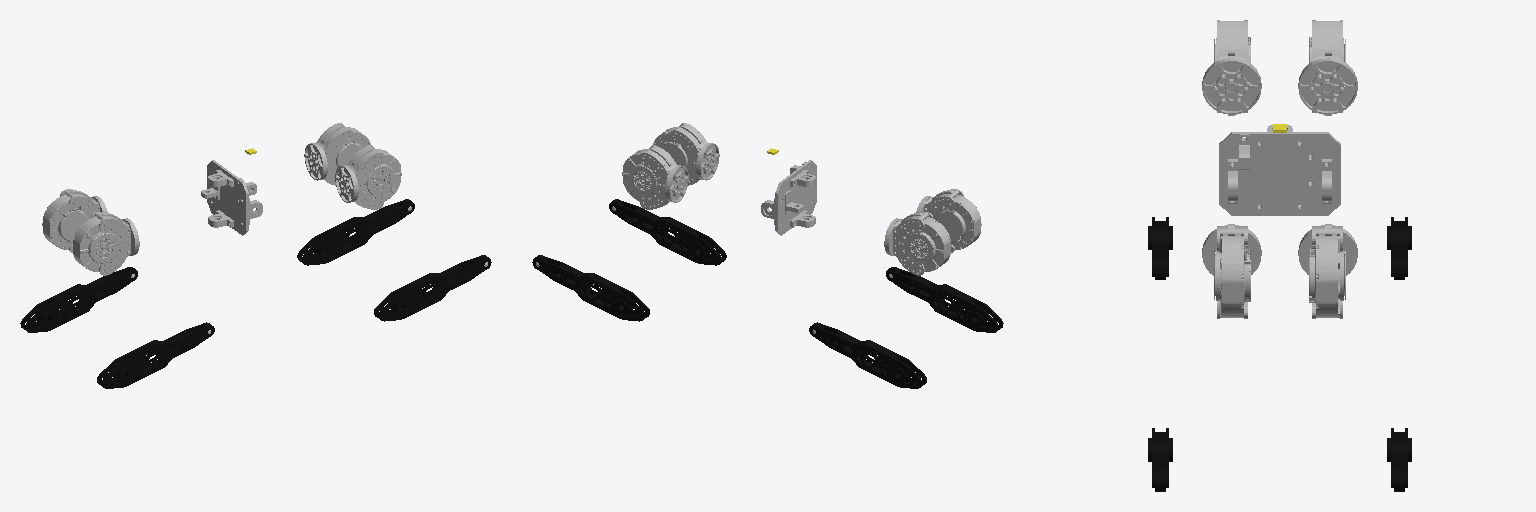
robot.urdf — CatModel2_v2:
<?xml version="1.0" ?>
<!-- =================================================================================== -->
<!-- |    This document was autogenerated by xacro from CatModel2_v2.xacro             | -->
<!-- |    EDITING THIS FILE BY HAND IS NOT RECOMMENDED                                 | -->
<!-- =================================================================================== -->
<robot name="CatModel2_v2">
  <link name="base_link">
    <inertial>
      <origin rpy="0 0 0" xyz="0.0027732 -0.00068363 0.00099437"/>
      <mass value="0.29241"/>
      <inertia ixx="0.00035365" ixy="-9.4553E-08" ixz="3.37E-07" iyy="0.00014633" iyz="4.7012E-07" izz="0.00023997"/>
    </inertial>
    <visual>
      <origin rpy="0 0 0" xyz="0 0 0"/>
      <geometry>
        <mesh filename="package://CatModel2_v2_description/meshes/base_link.STL"/>
      </geometry>
      <material name="">
        <color rgba="0.752941176470588 0.752941176470588 0.752941176470588 1"/>
      </material>
    </visual>
  </link>
  <link name="BF_Link">
    <inertial>
      <origin rpy="0 0 0" xyz="0.12955 -8.3804E-05 -0.0013141"/>
      <mass value="3.1773"/>
      <inertia ixx="0.0048776" ixy="-5.0175E-06" ixz="-2.0519E-06" iyy="0.0043656" iyz="2.0409E-06" izz="0.0063374"/>
    </inertial>
    <visual>
      <origin rpy="0 0 0" xyz="0 0 0"/>
      <geometry>
        <mesh filename="package://CatModel2_v2_description/meshes/BF_Link.STL"/>
      </geometry>
      <material name="">
        <color rgba="0.752941176470588 0.752941176470588 0.752941176470588 1"/>
      </material>
    </visual>
    <collision>
      <origin rpy="0 0 0" xyz="0.13 0 0"/>
      <geometry>
        <box size="0.16 0.2 0.12"/>
      </geometry>
    </collision>
  </link>
  <joint name="bodyf_pitch_joint" type="revolute">
    <origin rpy="0 0 0" xyz="0 0 0"/>
    <parent link="base_link"/>
    <child link="BF_Link"/>
    <axis xyz="0 -1 0"/>
    <limit effort="23.7" lower="-0.75" upper="0.75" velocity="18"/>
  </joint>
  <link name="BB_Link">
    <inertial>
      <origin rpy="0 0 0" xyz="-0.155121047880281 -0.00203708989369605 -0.00355151701603064"/>
      <mass value="3.23275137200683"/>
      <inertia ixx="0.00514719625702028" ixy="1.12565222116179E-06" ixz="-1.95082644973759E-08" iyy="0.00417841726459602" iyz="-4.35796353082797E-06" izz="0.0068065106450055"/>
    </inertial>
    <visual>
      <origin rpy="0 0 0" xyz="0 0 0"/>
      <geometry>
        <mesh filename="package://CatModel2_v2_description/meshes/BB_Link.STL"/>
      </geometry>
      <material name="">
        <color rgba="0.752941176470588 0.752941176470588 0.752941176470588 1"/>
      </material>
    </visual>
    <collision>
      <origin rpy="0 0 0" xyz="-0.13 0 0"/>
      <geometry>
        <box size="0.18 0.2 0.12"/>
      </geometry>
    </collision>
  </link>
  <joint name="bodyb_yaw_joint" type="revolute">
    <origin rpy="0 0 0" xyz="0 0 0"/>
    <parent link="base_link"/>
    <child link="BB_Link"/>
    <axis xyz="0 0 1"/>
    <limit effort="23.7" lower="-0.75" upper="0.75" velocity="18"/>
  </joint>
  <link name="LF_hip">
    <inertial>
      <origin rpy="0 0 0" xyz="0.059149 0.00048753 5.429E-05"/>
      <mass value="0.64023"/>
      <inertia ixx="0.00043421" ixy="-7.3517E-08" ixz="-9.9092E-07" iyy="0.00072036" iyz="6.9084E-08" izz="0.00034295"/>
    </inertial>
    <visual>
      <origin rpy="0 0 0" xyz="0 0 0"/>
      <geometry>
        <mesh filename="package://CatModel2_v2_description/meshes/LF_hip.STL"/>
      </geometry>
      <material name="">
        <color rgba="0.752941176470588 0.752941176470588 0.752941176470588 1"/>
      </material>
    </visual>
  </link>
  <joint name="LF_HAA" type="revolute">
    <origin rpy="0 0 0" xyz="0.2106 0.05498 -0.00027501"/>
    <parent link="BF_Link"/>
    <child link="LF_hip"/>
    <axis xyz="1 0 0"/>
    <limit effort="23.7" lower="-0.785" upper="0.785" velocity="18"/>
  </joint>
  <link name="LF_thigh">
    <inertial>
      <origin rpy="0 0 0" xyz="-0.0032907 0.041874 -0.028566"/>
      <mass value="0.90246"/>
      <inertia ixx="0.0018817" ixy="-1.6738E-07" ixz="8.646E-05" iyy="0.0023903" iyz="-3.6595E-07" izz="0.00056291"/>
    </inertial>
    <visual>
      <origin rpy="0 0 0" xyz="0 0 0"/>
      <geometry>
        <mesh filename="package://CatModel2_v2_description/meshes/LF_thigh.STL"/>
      </geometry>
      <material name="">
        <color rgba="0.752941176470588 0.752941176470588 0.752941176470588 1"/>
      </material>
    </visual>
  </link>
  <joint name="LF_HFE" type="revolute">
    <origin rpy="0 0 0" xyz="0.065399 0.02005 0"/>
    <parent link="LF_hip"/>
    <child link="LF_thigh"/>
    <axis xyz="0 1 0"/>
    <limit effort="23.7" lower="-1.05" upper="3.14" velocity="18"/>
  </joint>
  <link name="LF_calf">
    <inertial>
      <origin rpy="0 0 0" xyz="0 -3.1641E-15 -0.052658"/>
      <mass value="0.14476"/>
      <inertia ixx="0.00035039" ixy="1.2339E-20" ixz="3.6484E-19" iyy="0.00037167" iyz="2.4131E-18" izz="2.3499E-05"/>
    </inertial>
    <visual>
      <origin rpy="0 0 0" xyz="0 0 0"/>
      <geometry>
        <mesh filename="package://CatModel2_v2_description/meshes/LF_calf.STL"/>
      </geometry>
      <material name="">
        <color rgba="0.101960784313725 0.101960784313725 0.101960784313725 1"/>
      </material>
    </visual>
    <collision>
      <origin rpy="0 1.5707963267948966 0" xyz="0.0 0 -0.068"/>
      <geometry>
        <box size="0.18 0.02 0.03"/>
      </geometry>
    </collision>
  </link>
  <joint name="LF_KFE" type="revolute">
    <origin rpy="0 0 0" xyz="0 0.0617 -0.22"/>
    <parent link="LF_thigh"/>
    <child link="LF_calf"/>
    <axis xyz="0 1 0"/>
    <limit effort="23.7" lower="-2.70" upper="-0.92" velocity="18"/>
  </joint>
  <link name="LF_FOOT">
    <visual>
      <origin rpy="0 0 0" xyz="0 0 0"/>
      <geometry>
        <sphere radius="0.01"/>
      </geometry>
      <material name="">
        <color rgba="0.752941176470588 0.752941176470588 0.752941176470588 1"/>
      </material>
    </visual>
    <collision>
      <origin rpy="0 0 0" xyz="0 0 0"/>
      <geometry>
        <sphere radius="0.02"/>
      </geometry>
    </collision>
    <inertial>
      <mass value="0.06"/>
      <inertia ixx="9.600000000000001e-06" ixy="0.0" ixz="0.0" iyy="9.600000000000001e-06" iyz="0.0" izz="9.600000000000001e-06"/>
    </inertial>
  </link>
  <joint name="LF_foot_fixed" type="fixed">
    <origin rpy="0 0 0" xyz="-0.001 0 -0.18"/>
    <parent link="LF_calf"/>
    <child link="LF_FOOT"/>
  </joint>
  <link name="RF_hip">
    <inertial>
      <origin rpy="0 0 0" xyz="0.0591490581019896 -0.000487525970476965 -5.42903367248861E-05"/>
      <mass value="0.640225051482545"/>
      <inertia ixx="0.000434212543234904" ixy="7.35174336445234E-08" ixz="9.90921151292404E-07" iyy="0.000720360810738487" iyz="6.90839528752722E-08" izz="0.000342952443359203"/>
    </inertial>
    <visual>
      <origin rpy="0 0 0" xyz="0 0 0"/>
      <geometry>
        <mesh filename="package://CatModel2_v2_description/meshes/RF_hip.STL"/>
      </geometry>
      <material name="">
        <color rgba="0.752941176470588 0.752941176470588 0.752941176470588 1"/>
      </material>
    </visual>
  </link>
  <joint name="RF_HAA" type="revolute">
    <origin rpy="0 0 0" xyz="0.2106 -0.05502 -0.00027501"/>
    <parent link="BF_Link"/>
    <child link="RF_hip"/>
    <axis xyz="1 0 0"/>
    <limit effort="23.7" lower="-0.785" upper="0.785" velocity="18"/>
  </joint>
  <link name="RF_thigh">
    <inertial>
      <origin rpy="0 0 0" xyz="-0.00317848322957781 -0.0418855537001225 -0.0284736552743077"/>
      <mass value="0.902455135679806"/>
      <inertia ixx="0.0018815550203863" ixy="-1.67383947337767E-07" ixz="8.24129006656969E-05" iyy="0.00239029186292115" iyz="-5.15964742906776E-07" izz="0.000563095477798709"/>
    </inertial>
    <visual>
      <origin rpy="0 0 0" xyz="0 0 0"/>
      <geometry>
        <mesh filename="package://CatModel2_v2_description/meshes/RF_thigh.STL"/>
      </geometry>
      <material name="">
        <color rgba="0.752941176470588 0.752941176470588 0.752941176470588 1"/>
      </material>
    </visual>
  </link>
  <joint name="RF_HFE" type="revolute">
    <origin rpy="0 0 0" xyz="0.065399 -0.02005 0"/>
    <parent link="RF_hip"/>
    <child link="RF_thigh"/>
    <axis xyz="0 1 0"/>
    <limit effort="23.7" lower="-1.05" upper="3.14" velocity="18"/>
  </joint>
  <link name="RF_calf">
    <inertial>
      <origin rpy="0 0 0" xyz="6.66133814775094E-16 -6.22765727875674E-15 -0.0526579498337946"/>
      <mass value="0.144759009545624"/>
      <inertia ixx="0.000350393411843135" ixy="2.0050448906824E-20" ixz="4.21763248200571E-19" iyy="0.000371665464074352" iyz="2.01157508959523E-18" izz="2.34988672673909E-05"/>
    </inertial>
    <visual>
      <origin rpy="0 0 0" xyz="0 0 0"/>
      <geometry>
        <mesh filename="package://CatModel2_v2_description/meshes/RF_calf.STL"/>
      </geometry>
      <material name="">
        <color rgba="0.101960784313725 0.101960784313725 0.101960784313725 1"/>
      </material>
    </visual>
    <collision>
      <origin rpy="0 1.5707963267948966 0" xyz="0.0 0 -0.068"/>
      <geometry>
        <box size="0.18 0.02 0.03"/>
      </geometry>
    </collision>
  </link>
  <joint name="RF_KFE" type="revolute">
    <origin rpy="0 0 0" xyz="0 -0.0617 -0.22"/>
    <parent link="RF_thigh"/>
    <child link="RF_calf"/>
    <axis xyz="0 1 0"/>
    <limit effort="23.7" lower="-2.70" upper="-0.92" velocity="18"/>
  </joint>
  <link name="RF_FOOT">
    <visual>
      <origin rpy="0 0 0" xyz="0 0 0"/>
      <geometry>
        <sphere radius="0.01"/>
      </geometry>
      <material name="">
        <color rgba="0.752941176470588 0.752941176470588 0.752941176470588 1"/>
      </material>
    </visual>
    <collision>
      <origin rpy="0 0 0" xyz="0 0 0"/>
      <geometry>
        <sphere radius="0.02"/>
      </geometry>
    </collision>
    <inertial>
      <mass value="0.06"/>
      <inertia ixx="9.600000000000001e-06" ixy="0.0" ixz="0.0" iyy="9.600000000000001e-06" iyz="0.0" izz="9.600000000000001e-06"/>
    </inertial>
  </link>
  <joint name="RF_foot_fixed" type="fixed">
    <origin rpy="0 0 0" xyz="-0.001 0 -0.18"/>
    <parent link="RF_calf"/>
    <child link="RF_FOOT"/>
  </joint>
  <link name="LH_hip">
    <inertial>
      <origin rpy="0 0 0" xyz="-0.0591490581019898 0.000487525970477076 -5.42903367247473E-05"/>
      <mass value="0.64022505148254"/>
      <inertia ixx="0.0004342125432349" ixy="7.35174336447589E-08" ixz="-9.90921151293637E-07" iyy="0.000720360810738482" iyz="-6.90839528781593E-08" izz="0.000342952443359201"/>
    </inertial>
    <visual>
      <origin rpy="0 0 0" xyz="0 0 0"/>
      <geometry>
        <mesh filename="package://CatModel2_v2_description/meshes/LH_hip.STL"/>
      </geometry>
      <material name="">
        <color rgba="0.752941176470588 0.752941176470588 0.752941176470588 1"/>
      </material>
    </visual>
  </link>
  <joint name="LH_HAA" type="revolute">
    <origin rpy="0 0 0" xyz="-0.2306 0.05498 -0.00027501"/>
    <parent link="BB_Link"/>
    <child link="LH_hip"/>
    <axis xyz="1 0 0"/>
    <limit effort="23.7" lower="-0.785" upper="0.785" velocity="18"/>
  </joint>
  <link name="LH_thigh">
    <inertial>
      <origin rpy="0 0 0" xyz="-0.00326537744186078 0.0418738032783046 -0.0284484128464969"/>
      <mass value="0.90245513578387"/>
      <inertia ixx="0.00188150914405838" ixy="-1.67383947515894E-07" ixz="8.60940761571269E-05" iyy="0.0023902918629742" iyz="-3.65953825948848E-07" izz="0.000563141354181181"/>
    </inertial>
    <visual>
      <origin rpy="0 0 0" xyz="0 0 0"/>
      <geometry>
        <mesh filename="package://CatModel2_v2_description/meshes/LH_thigh.STL"/>
      </geometry>
      <material name="">
        <color rgba="0.752941176470588 0.752941176470588 0.752941176470588 1"/>
      </material>
    </visual>
  </link>
  <joint name="LH_HFE" type="revolute">
    <origin rpy="0 0 0" xyz="-0.065399 0.02005 0"/>
    <parent link="LH_hip"/>
    <child link="LH_thigh"/>
    <axis xyz="0 1 0"/>
    <limit effort="23.7" lower="-1.05" upper="3.14" velocity="18"/>
  </joint>
  <link name="LH_calf">
    <inertial>
      <origin rpy="0 0 0" xyz="1.11022302462516E-16 8.88178419700125E-16 -0.0526579498337902"/>
      <mass value="0.144759009545624"/>
      <inertia ixx="0.000350393411843134" ixy="2.56586676497705E-20" ixz="6.47243391334494E-21" iyy="0.000371665464074352" iyz="-2.65071817579223E-18" izz="2.34988672673909E-05"/>
    </inertial>
    <visual>
      <origin rpy="0 0 0" xyz="0 0 0"/>
      <geometry>
        <mesh filename="package://CatModel2_v2_description/meshes/LH_calf.STL"/>
      </geometry>
      <material name="">
        <color rgba="0.101960784313725 0.101960784313725 0.101960784313725 1"/>
      </material>
    </visual>
    <collision>
      <origin rpy="0 1.5707963267948966 0" xyz="0.0 0 -0.068"/>
      <geometry>
        <box size="0.18 0.02 0.03"/>
      </geometry>
    </collision>
  </link>
  <joint name="LH_KFE" type="revolute">
    <origin rpy="0 0 0" xyz="0 0.0617 -0.22"/>
    <parent link="LH_thigh"/>
    <child link="LH_calf"/>
    <axis xyz="0 1 0"/>
    <limit effort="23.7" lower="-2.70" upper="-0.92" velocity="18"/>
  </joint>
  <link name="LH_FOOT">
    <visual>
      <origin rpy="0 0 0" xyz="0 0 0"/>
      <geometry>
        <sphere radius="0.01"/>
      </geometry>
      <material name="">
        <color rgba="0.752941176470588 0.752941176470588 0.752941176470588 1"/>
      </material>
    </visual>
    <collision>
      <origin rpy="0 0 0" xyz="0 0 0"/>
      <geometry>
        <sphere radius="0.02"/>
      </geometry>
    </collision>
    <inertial>
      <mass value="0.06"/>
      <inertia ixx="9.600000000000001e-06" ixy="0.0" ixz="0.0" iyy="9.600000000000001e-06" iyz="0.0" izz="9.600000000000001e-06"/>
    </inertial>
  </link>
  <joint name="LH_foot_fixed" type="fixed">
    <origin rpy="0 0 0" xyz="-0.001 0 -0.18"/>
    <parent link="LH_calf"/>
    <child link="LH_FOOT"/>
  </joint>
  <link name="RH_hip">
    <inertial>
      <origin rpy="0 0 0" xyz="-0.0589998656454742 -0.000506527943530136 -1.58979394321024E-05"/>
      <mass value="0.642366646261419"/>
      <inertia ixx="0.000434440011866329" ixy="-7.3517433644117E-08" ixz="9.90921151292079E-07" iyy="0.000720364692882" iyz="-6.90839528753E-08" izz="0.000343179911990631"/>
    </inertial>
    <visual>
      <origin rpy="0 0 0" xyz="0 0 0"/>
      <geometry>
        <mesh filename="package://CatModel2_v2_description/meshes/RH_hip.STL"/>
      </geometry>
      <material name="">
        <color rgba="0.752941176470588 0.752941176470588 0.752941176470588 1"/>
      </material>
    </visual>
  </link>
  <joint name="RH_HAA" type="revolute">
    <origin rpy="0 0 0" xyz="-0.2306 -0.05502 -0.00027501"/>
    <parent link="BB_Link"/>
    <child link="RH_hip"/>
    <axis xyz="1 0 0"/>
    <limit effort="23.7" lower="-0.785" upper="0.785" velocity="18"/>
  </joint>
  <link name="RH_thigh">
    <inertial>
      <origin rpy="0 0 0" xyz="-0.00317232321632233 -0.0418855537024003 -0.028448412846502"/>
      <mass value="0.902455135783871"/>
      <inertia ixx="0.00188150914405838" ixy="-1.67383947516652E-07" ixz="8.23311898038298E-05" iyy="0.0023902918629742" iyz="-5.15964720207777E-07" izz="0.000563141354181178"/>
    </inertial>
    <visual>
      <origin rpy="0 0 0" xyz="0 0 0"/>
      <geometry>
        <mesh filename="package://CatModel2_v2_description/meshes/RH_thigh.STL"/>
      </geometry>
      <material name="">
        <color rgba="0.752941176470588 0.752941176470588 0.752941176470588 1"/>
      </material>
    </visual>
  </link>
  <joint name="RH_HFE" type="revolute">
    <origin rpy="0 0 0" xyz="-0.065399 -0.02005 0"/>
    <parent link="RH_hip"/>
    <child link="RH_thigh"/>
    <axis xyz="0 1 0"/>
    <limit effort="23.7" lower="-1.05" upper="3.14" velocity="18"/>
  </joint>
  <link name="RH_calf">
    <inertial>
      <origin rpy="0 0 0" xyz="-4.9960036108132E-16 9.54097911787244E-16 -0.0526579498337933"/>
      <mass value="0.144759009545625"/>
      <inertia ixx="0.000350393411843135" ixy="2.1155328601958E-21" ixz="3.60949306388038E-21" iyy="0.000371665464074352" iyz="-2.27593210856691E-18" izz="2.34988672673909E-05"/>
    </inertial>
    <visual>
      <origin rpy="0 0 0" xyz="0 0 0"/>
      <geometry>
        <mesh filename="package://CatModel2_v2_description/meshes/RH_calf.STL"/>
      </geometry>
      <material name="">
        <color rgba="0.101960784313725 0.101960784313725 0.101960784313725 1"/>
      </material>
    </visual>
    <collision>
      <origin rpy="0 1.5707963267948966 0" xyz="0.0 0 -0.068"/>
      <geometry>
        <box size="0.18 0.02 0.03"/>
      </geometry>
    </collision>
  </link>
  <joint name="RH_KFE" type="revolute">
    <origin rpy="0 0 0" xyz="0 -0.0617 -0.22"/>
    <parent link="RH_thigh"/>
    <child link="RH_calf"/>
    <axis xyz="0 1 0"/>
    <limit effort="23.7" lower="-2.70" upper="-0.92" velocity="18"/>
  </joint>
  <link name="RH_FOOT">
    <visual>
      <origin rpy="0 0 0" xyz="0 0 0"/>
      <geometry>
        <sphere radius="0.01"/>
      </geometry>
      <material name="">
        <color rgba="0.752941176470588 0.752941176470588 0.752941176470588 1"/>
      </material>
    </visual>
    <collision>
      <origin rpy="0 0 0" xyz="0 0 0"/>
      <geometry>
        <sphere radius="0.02"/>
      </geometry>
    </collision>
    <inertial>
      <mass value="0.06"/>
      <inertia ixx="9.600000000000001e-06" ixy="0.0" ixz="0.0" iyy="9.600000000000001e-06" iyz="0.0" izz="9.600000000000001e-06"/>
    </inertial>
  </link>
  <joint name="RH_foot_fixed" type="fixed">
    <origin rpy="0 0 0" xyz="-0.001 0 -0.18"/>
    <parent link="RH_calf"/>
    <child link="RH_FOOT"/>
  </joint>
  <!-- Imu is fixed to the base link -->
  <joint name="base_imu_joint" type="fixed">
    <origin rpy="0. 0. 0." xyz=" 0.05 0. 0.08"/>
    <parent link="base_link"/>
    <child link="base_imu"/>
  </joint>
  <!-- Imu link -->
  <link name="base_imu">
    <inertial>
      <mass value="0.01"/>
      <origin rpy="0 0 0" xyz="0 0 0"/>
      <inertia ixx="0.000001" ixy="0" ixz="0" iyy="0.000001" iyz="0" izz="0.000001"/>
    </inertial>
    <visual>
      <origin rpy="0 0 0" xyz="0 0 0"/>
      <geometry>
        <box size="0.015 0.015 0.004"/>
      </geometry>
    </visual>
    <material name="orange">
      <color rgba="255 108 10 255"/>
    </material>
  </link>
</robot>

--- Render facts (derived) ---
Views: 3 orthographic renders of the robot side by side, from view 1: azimuth 30°, elevation 25°; view 2: azimuth 150°, elevation 25°; view 3: azimuth 270°, elevation 25°.
Model CatModel2_v2 with 20 links and 19 joints (14 revolute, 5 fixed), rooted at base_link, posed joints at zero except 4 at the middle of their limits (LF_KFE = -1.81, RF_KFE = -1.81, LH_KFE = -1.81, RH_KFE = -1.81).
Visible links, largest first — view 1: RH_hip, RF_hip, LF_calf, RH_calf, RF_calf, LH_calf, base_link, LF_hip, LH_hip; view 2: LH_hip, LF_hip, RF_calf, LH_calf, LF_calf, RH_calf, base_link, RF_hip, RH_hip; view 3: base_link, LH_hip, RH_hip, LF_hip, RF_hip, LF_calf, RF_calf, LH_calf, RH_calf.
Boxes of the visible links, bbox=[...] form: RH_hip: bbox=[73, 212, 139, 275]; RF_hip: bbox=[335, 145, 401, 209]; LF_calf: bbox=[297, 199, 414, 265]; RH_calf: bbox=[97, 322, 214, 388]; RF_calf: bbox=[374, 255, 491, 321]; LH_calf: bbox=[20, 267, 137, 332]; base_link: bbox=[201, 160, 262, 235]; LF_hip: bbox=[304, 123, 370, 185]; LH_hip: bbox=[42, 189, 107, 252]; LH_hip: bbox=[884, 212, 950, 275]; LF_hip: bbox=[622, 145, 688, 209]; RF_calf: bbox=[609, 199, 726, 265]; LH_calf: bbox=[809, 322, 926, 388]; LF_calf: bbox=[532, 255, 649, 321]; RH_calf: bbox=[886, 267, 1003, 332]; base_link: bbox=[761, 160, 816, 235]; RF_hip: bbox=[653, 123, 719, 185]; RH_hip: bbox=[916, 189, 981, 252]; base_link: bbox=[1219, 125, 1340, 215]; LH_hip: bbox=[1298, 20, 1357, 115]; RH_hip: bbox=[1202, 20, 1261, 115]; LF_hip: bbox=[1298, 224, 1357, 318]; RF_hip: bbox=[1202, 224, 1261, 318]; LF_calf: bbox=[1387, 428, 1411, 491]; RF_calf: bbox=[1148, 428, 1172, 491]; LH_calf: bbox=[1387, 217, 1411, 279]; RH_calf: bbox=[1148, 217, 1172, 279].
Bounding box of the posed robot: 0.8066 × 0.3019 × 0.3272 m (x, y, z).
9 mesh visuals loaded from 15 distinct referenced files (9 binary STL); not drawn: 6 (reference not matched to a file when rendering).